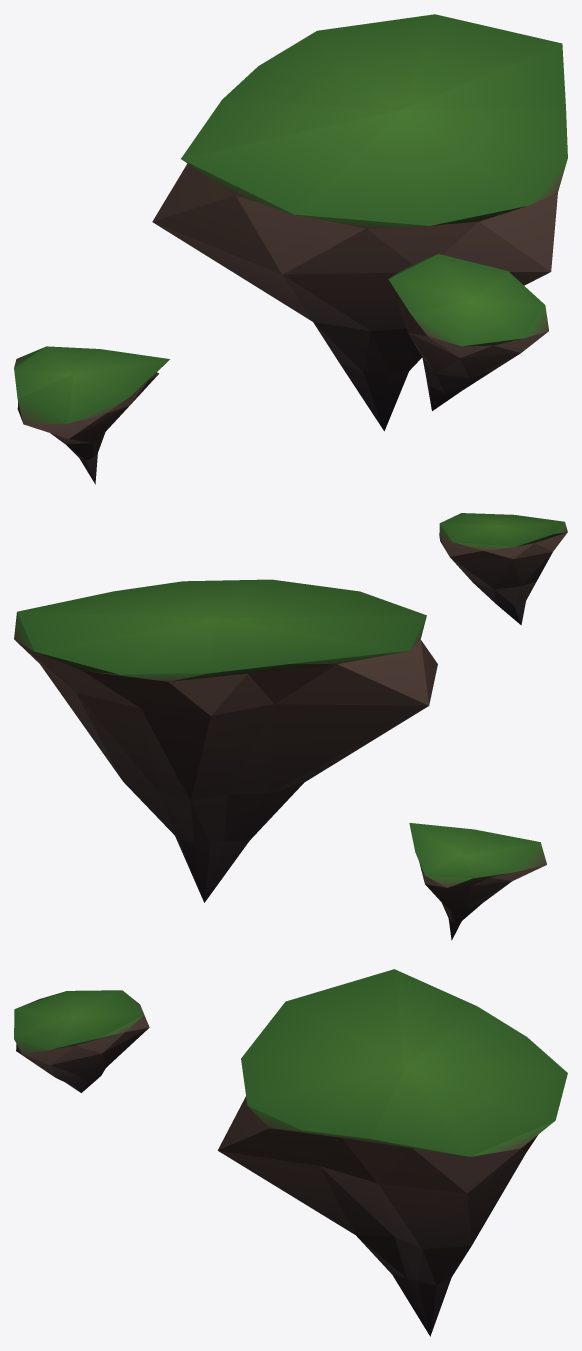
Rendered from floatshard.lod1.glb.
3 renders of one model, top to bottom at view 1: azimuth 30°, elevation 25°; view 2: azimuth 150°, elevation 25°; view 3: azimuth 270°, elevation 25°, orthographic. The views are drawn at different scales.
Visible parts, largest first — view 1: floatshard_s1_lod1; view 2: floatshard_s1_lod1; view 3: floatshard_s1_lod1.
Part boxes in pixels (<box>): floatshard_s1_lod1: <box>14,14,567,484</box>; floatshard_s1_lod1: <box>14,513,567,940</box>; floatshard_s1_lod1: <box>14,969,567,1336</box>.
Bounding box in the file's own units: 7.07 × 3.94 × 7.1.
